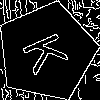K: (21, 27, 78, 76)
